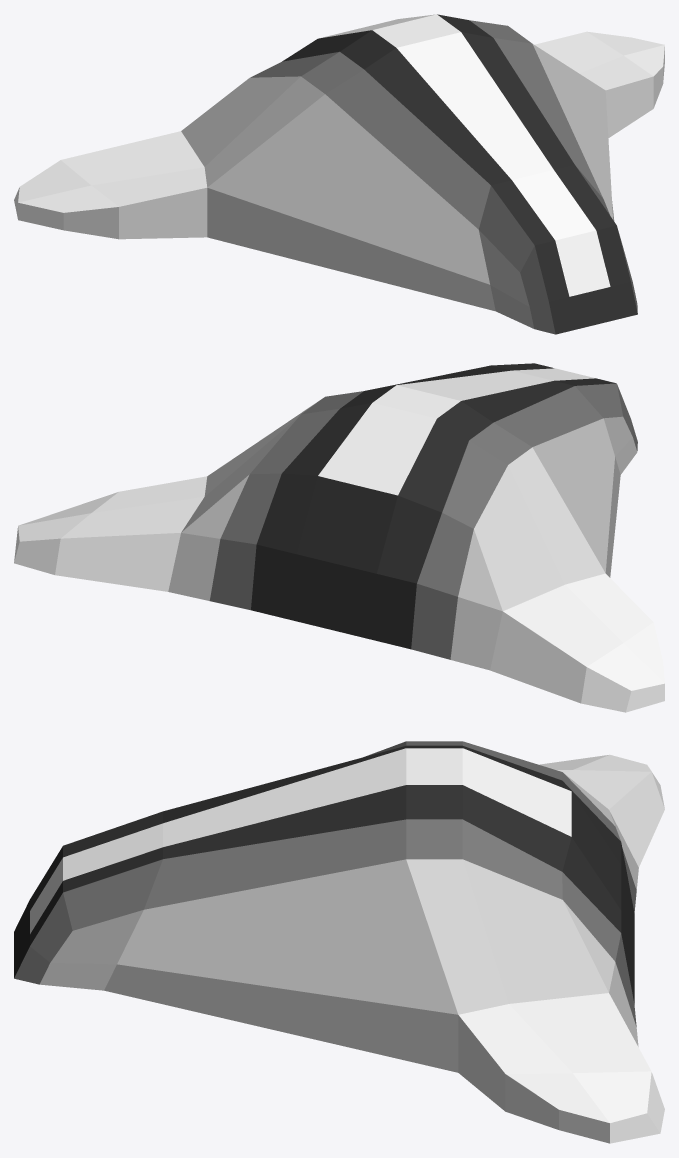
Rendered from KN_newSpaceship.FBX.
3 views of the same model, one above another, from view 1: azimuth 30°, elevation 25°; view 2: azimuth 150°, elevation 25°; view 3: azimuth 270°, elevation 25° (orthographic). The views are drawn at different scales.
Parts seen in each view (by area): view 1: Spaceship; view 2: Spaceship; view 3: Spaceship.
Boxes of the visible parts, bbox=[...] form: Spaceship: bbox=[14, 14, 664, 334]; Spaceship: bbox=[14, 363, 664, 712]; Spaceship: bbox=[14, 741, 664, 1143].
Bounding box in the file's own units: 693 × 169 × 517.
